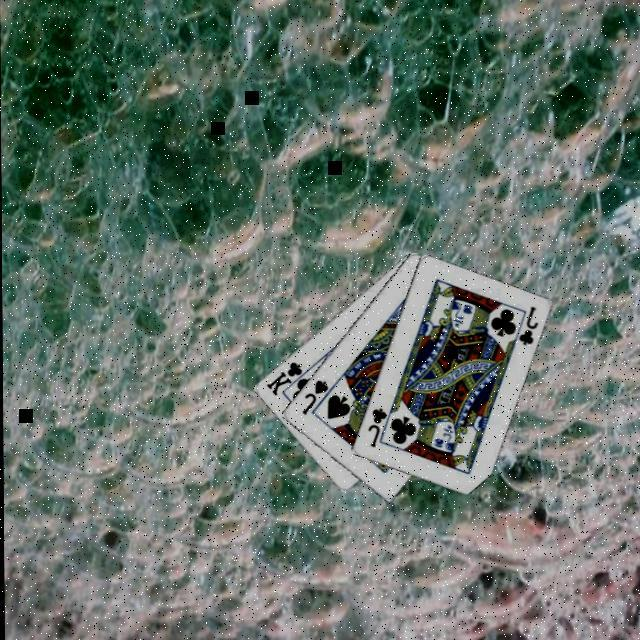JC: (362, 407, 388, 453), (513, 305, 539, 351)
JS: (297, 379, 329, 419)
KC: (262, 361, 311, 401)
